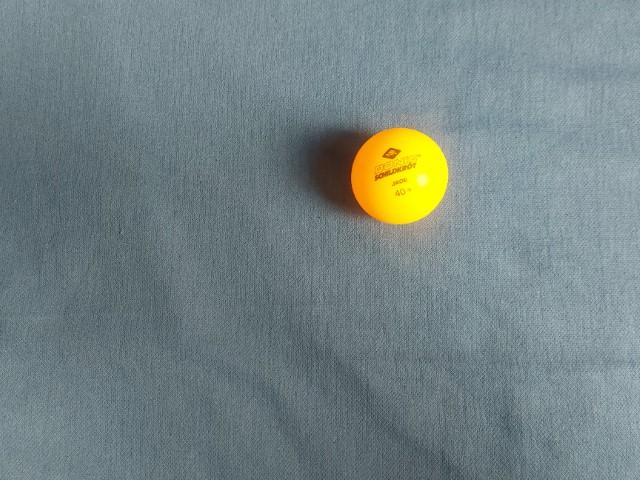oball: (186, 251, 294, 360)
